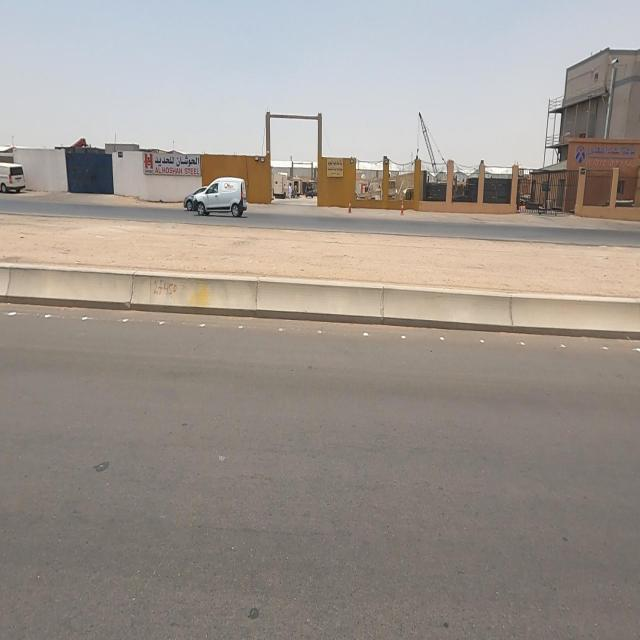Graffiti: (154, 279, 178, 298)
